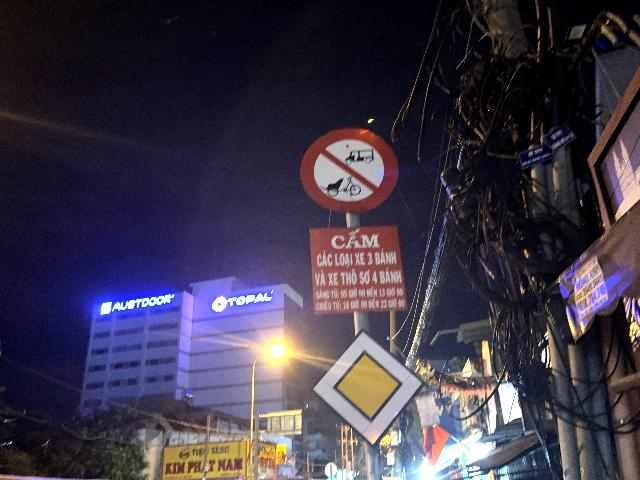bat-dau-duong-uu-tien: (310, 328, 426, 447)
cam-xe-3-banh-xe-tho-so-4-banh: (299, 127, 399, 213)
